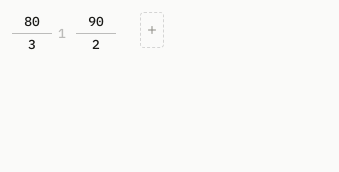
Test case: Ctrl+click takes a whole notation line › refuses an unreadable line rather than storing half of it
The image size is (339, 172).
Press the mouse on the button "80" at (32, 22), box [12,12,52,32]
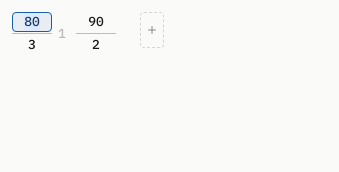
Replace the text in the field with "30x2, 50kg, 40x3" at (32, 22), box [12,12,52,32]
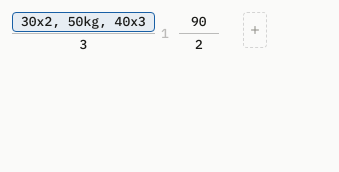
Press Enter in the field, box [12,12,155,32]
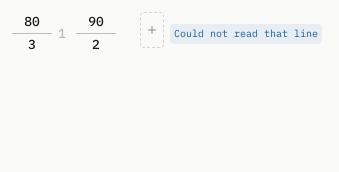
Check: the text "Could not read that line" is shown, box [170,24,322,44]
